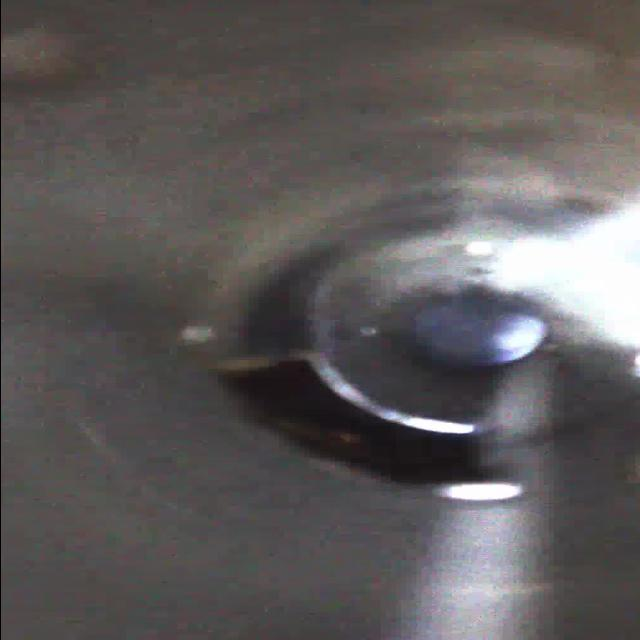hole: (204, 339, 536, 514)
